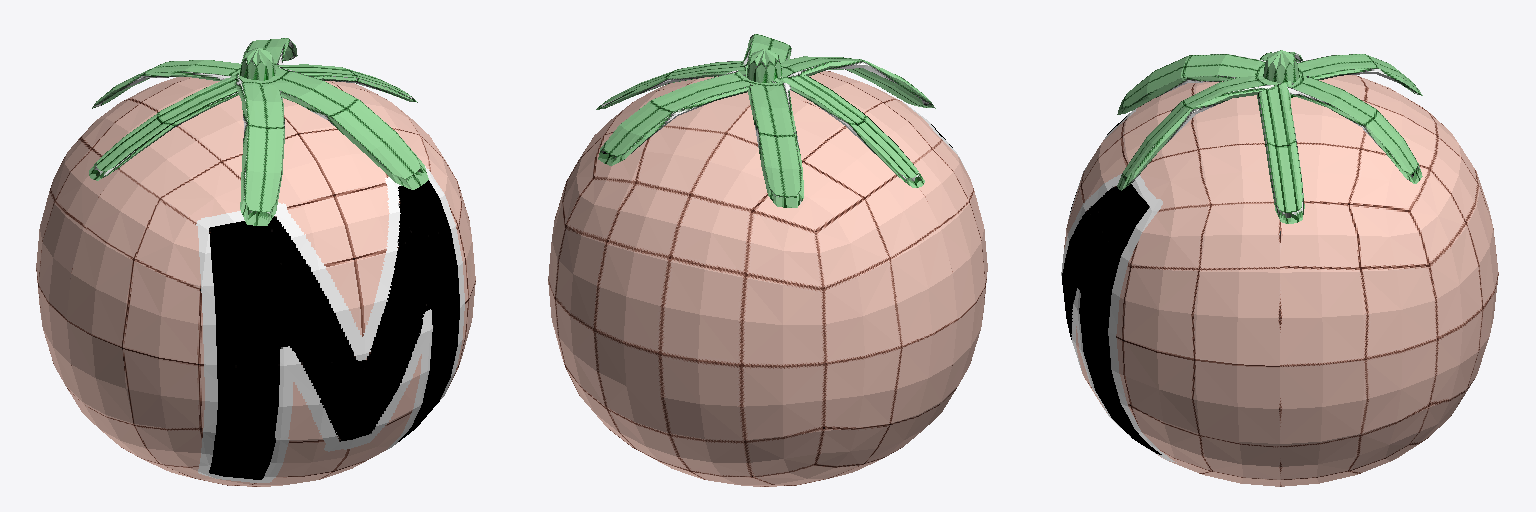
3 renders of one model, left to right at view 1: azimuth 30°, elevation 25°; view 2: azimuth 150°, elevation 25°; view 3: azimuth 270°, elevation 25°, orthographic.
Visible parts, largest first — view 1: Cube; view 2: Cube; view 3: Cube.
Boxes of the visible parts, x1,y1,x2,y2 form: Cube: [36, 38, 475, 486]; Cube: [548, 34, 987, 486]; Cube: [1061, 50, 1498, 486].
Bounding box in the file's own units: 3.32 × 3.47 × 3.32.
Materials: 2 (1 with a texture image).